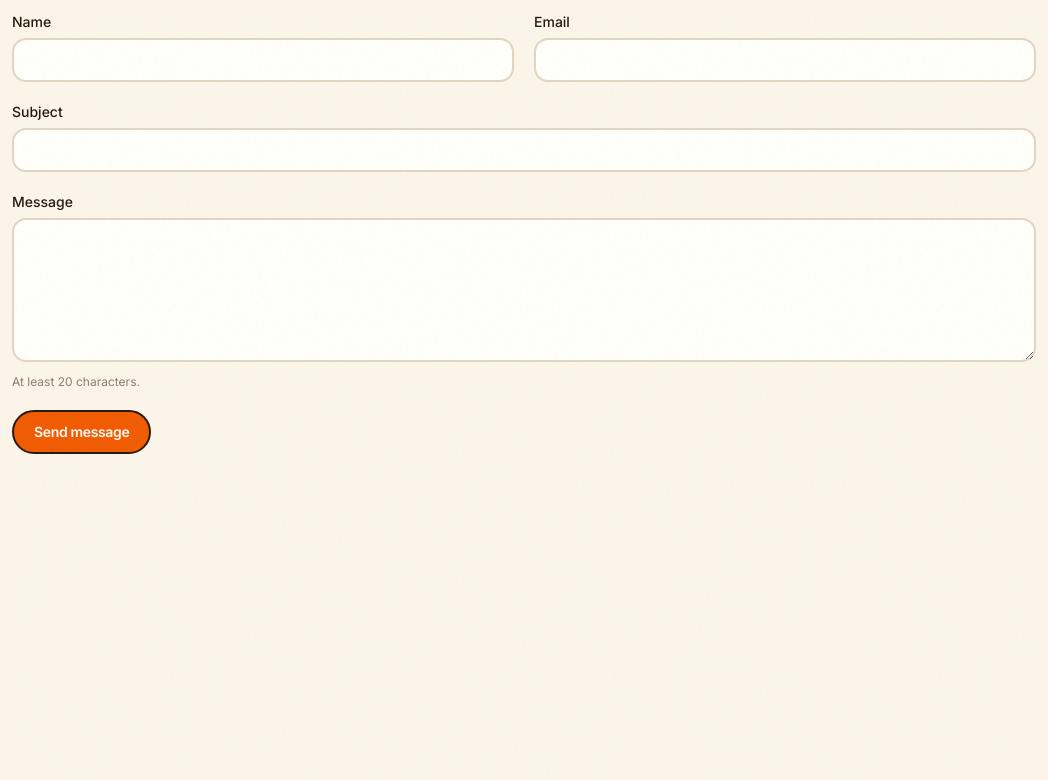
it: ContactForm › submits a valid message and confirms it
Type "Ada Lovelace" into the field labelled "Name" at coordinates (263, 60), box [12,38,514,82]
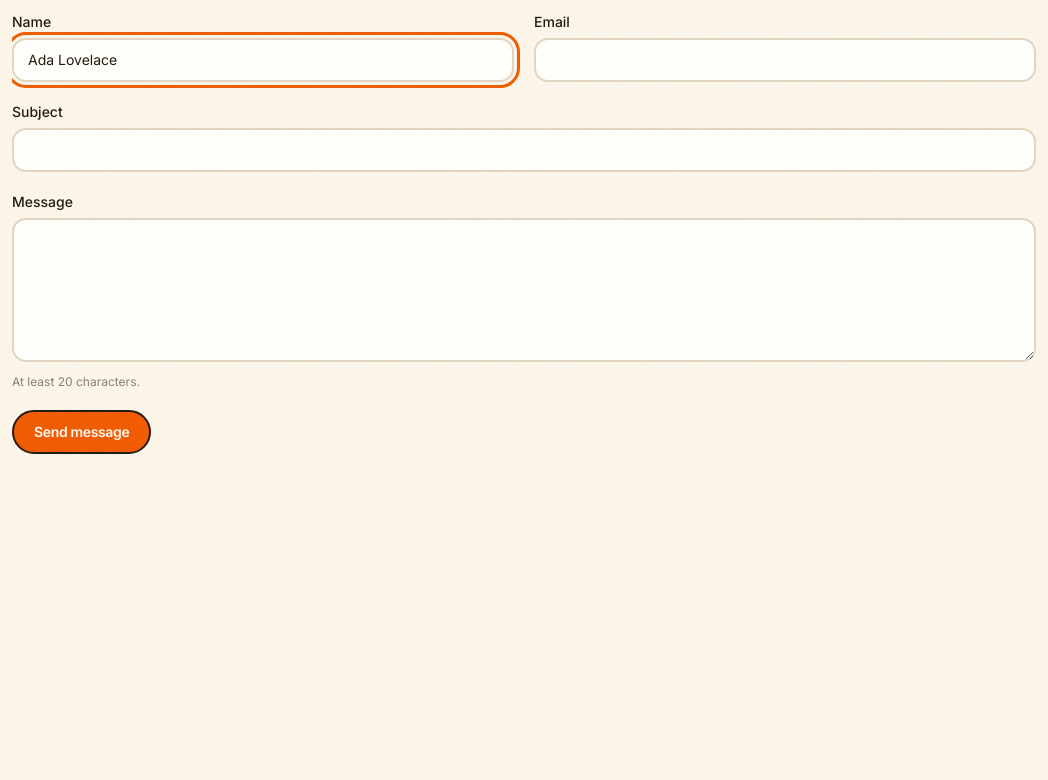
Type "ada@example.com" into the field labelled "Email" at coordinates (785, 60), box [534,38,1036,82]
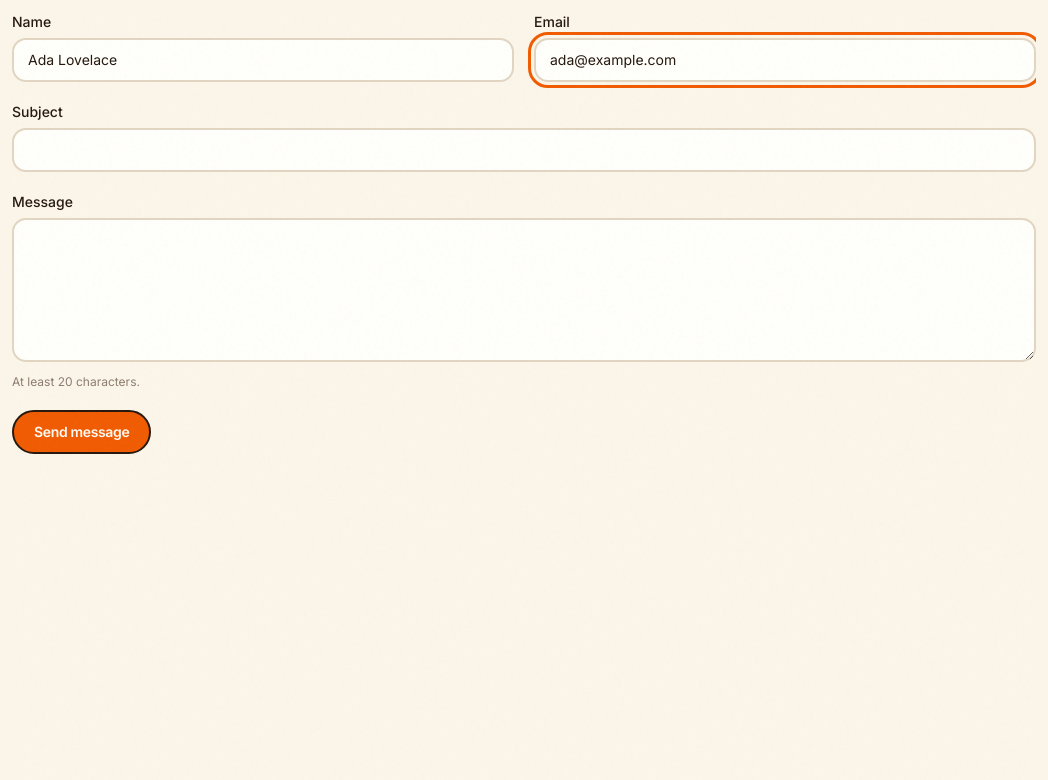
Type "About a role" into the field labelled "Subject" at coordinates (524, 150), box [12,128,1036,172]
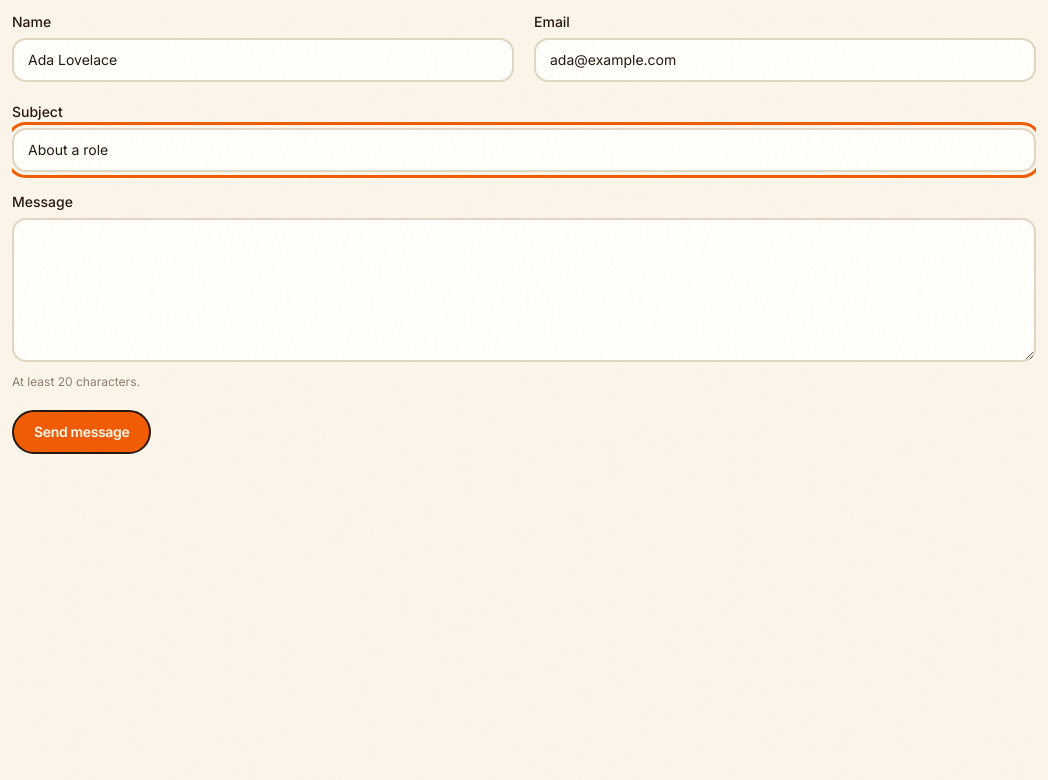
Type "I read through the architecture notes and had a question about the boundary." into the text box labelled "Message" at coordinates (524, 290), box [12,218,1036,362]
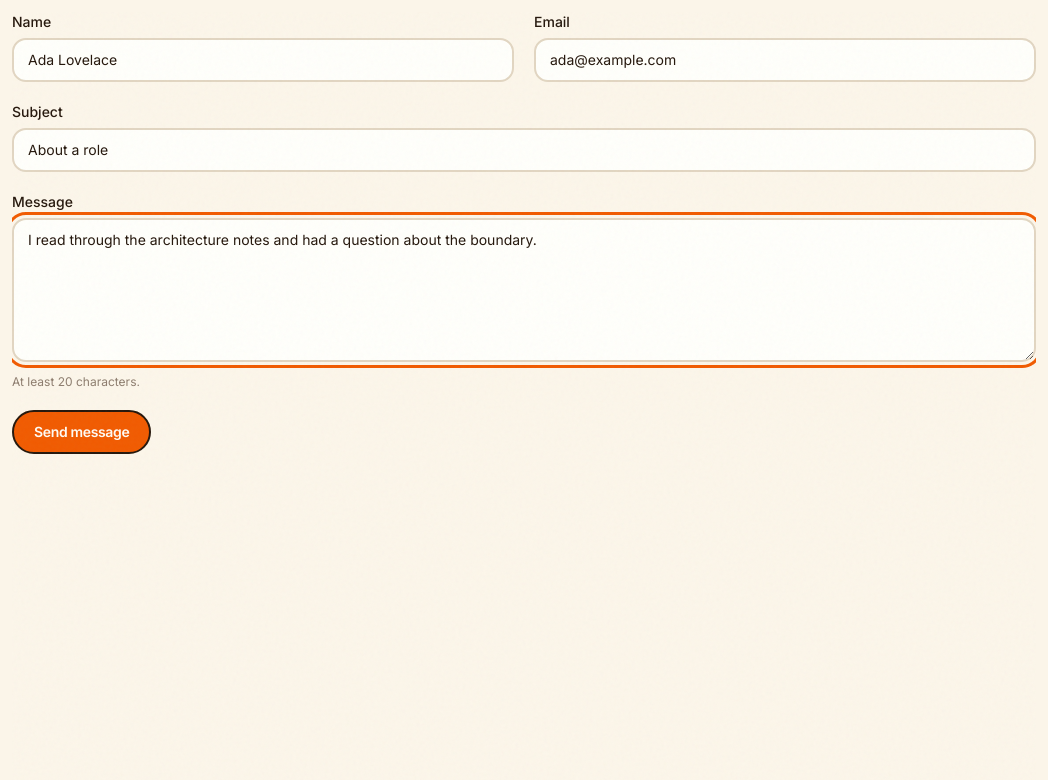
Click the button "Send message" at coordinates (82, 432), box [12,410,151,454]
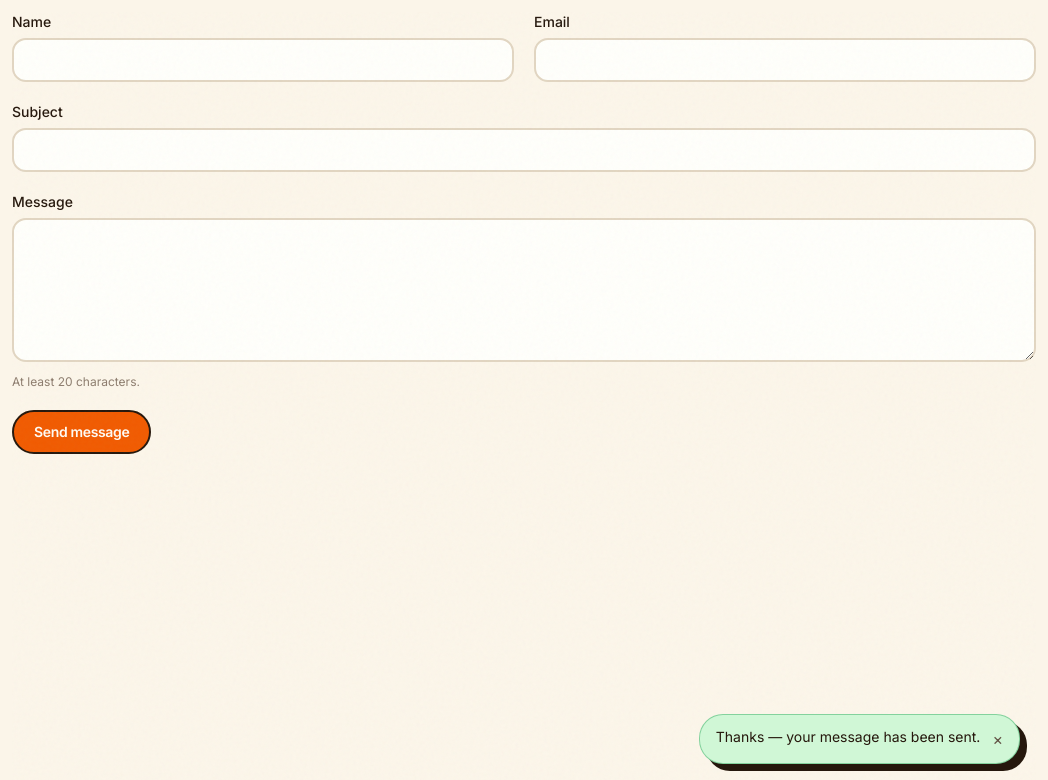
Result: the text "Thanks — your message has been sent." is shown at [716,727,980,747]
